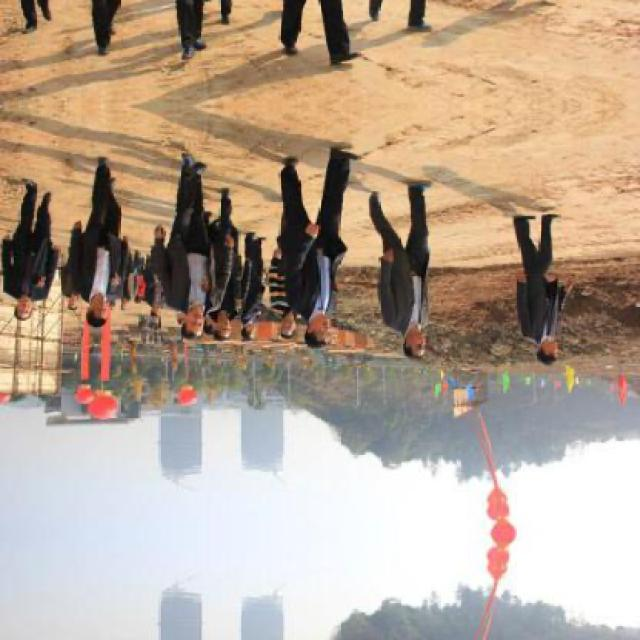sin casco: (521, 331, 567, 367), (166, 314, 213, 346), (306, 307, 342, 342), (98, 288, 124, 334), (89, 292, 127, 321), (407, 333, 431, 362), (12, 297, 39, 320)
